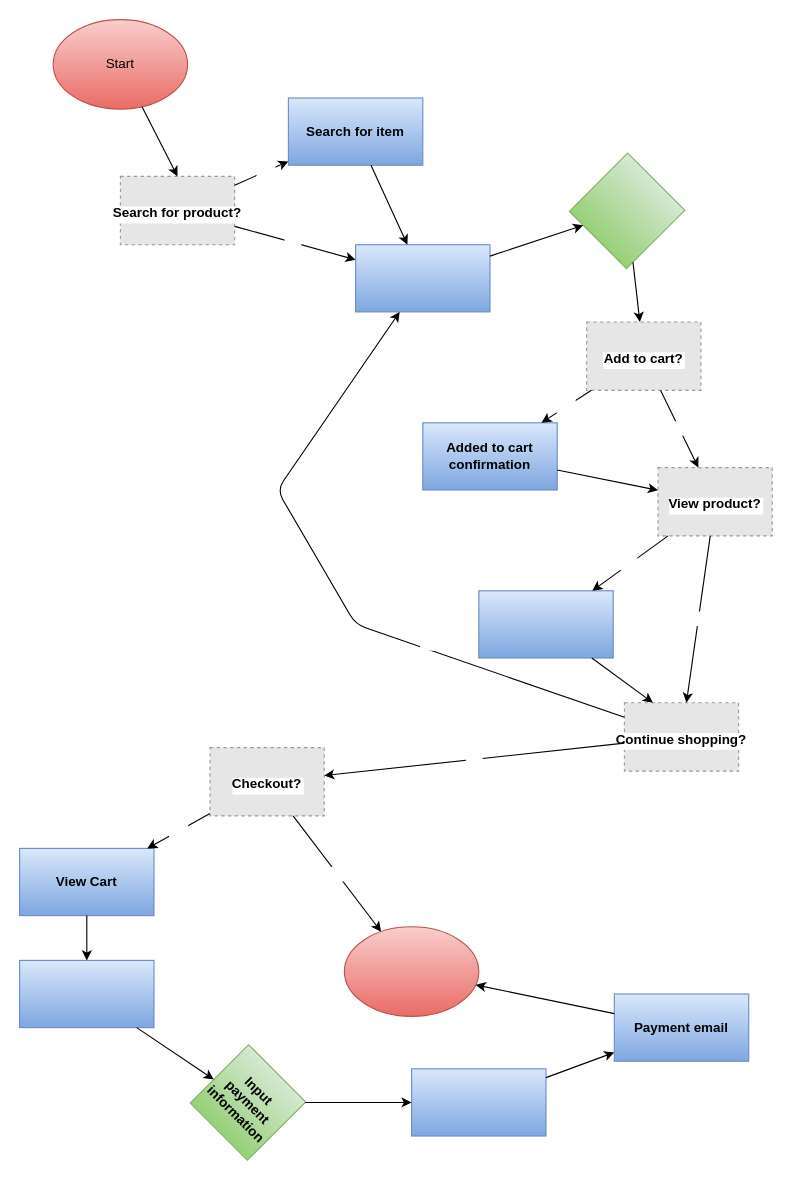
The diagram is 792 pixels wide and 1180 high, and some of its shapes have lost their labels. Grey dashed boxes stand in for pictures. Here are the shapes that lost their labels. From the top down, the box of each, then its label:
(568, 152, 685, 269): View a specific item
(354, 244, 490, 312): Look over products
(478, 590, 613, 658): Open product's webpage
(343, 926, 479, 1016): End
(18, 959, 154, 1028): View Payment
(410, 1068, 546, 1136): Order confirmation screen
